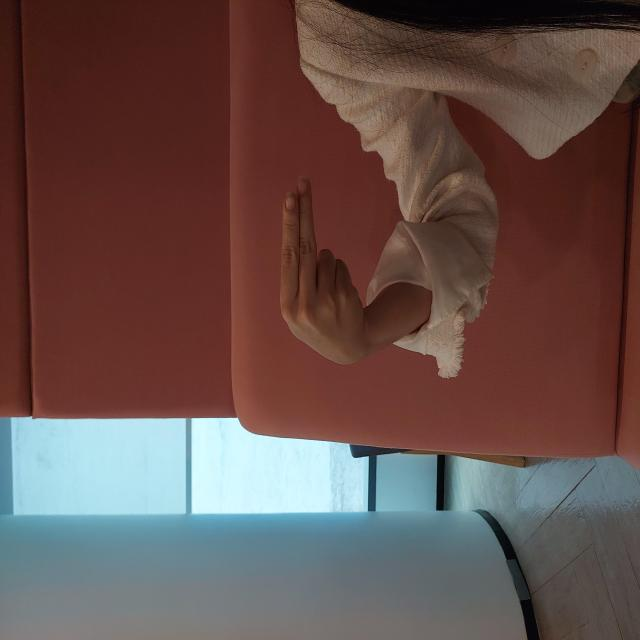H: (273, 278, 464, 364)
